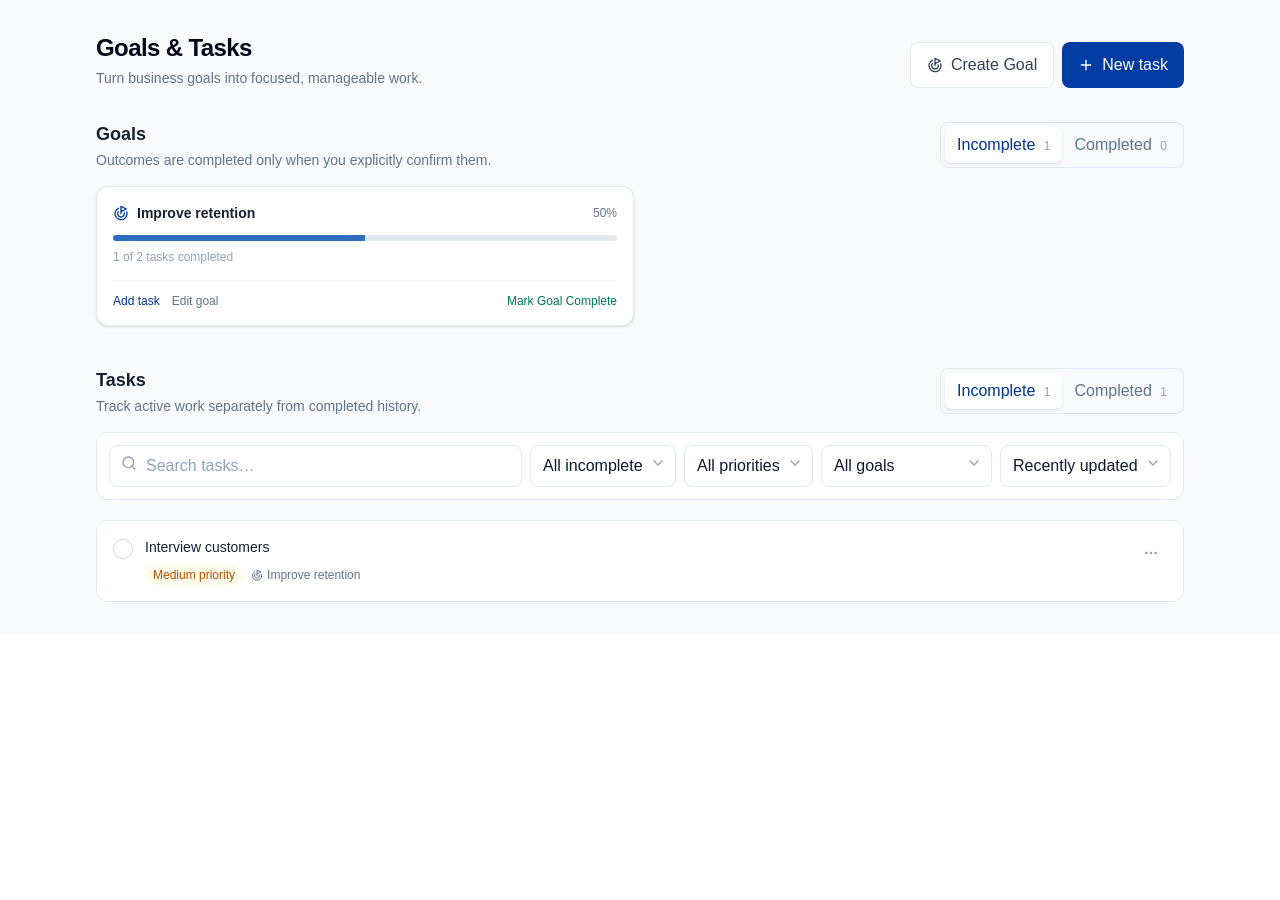
Test: persisted task and goal management › moves a goal and its remaining tasks to Completed after the bulk choice
Expected: the text "Interview customers" is shown, x1=145 y1=539 x2=270 y2=555
Click the button "Mark Goal Complete" at (562, 301), box x1=507 y1=293 x2=617 y2=309
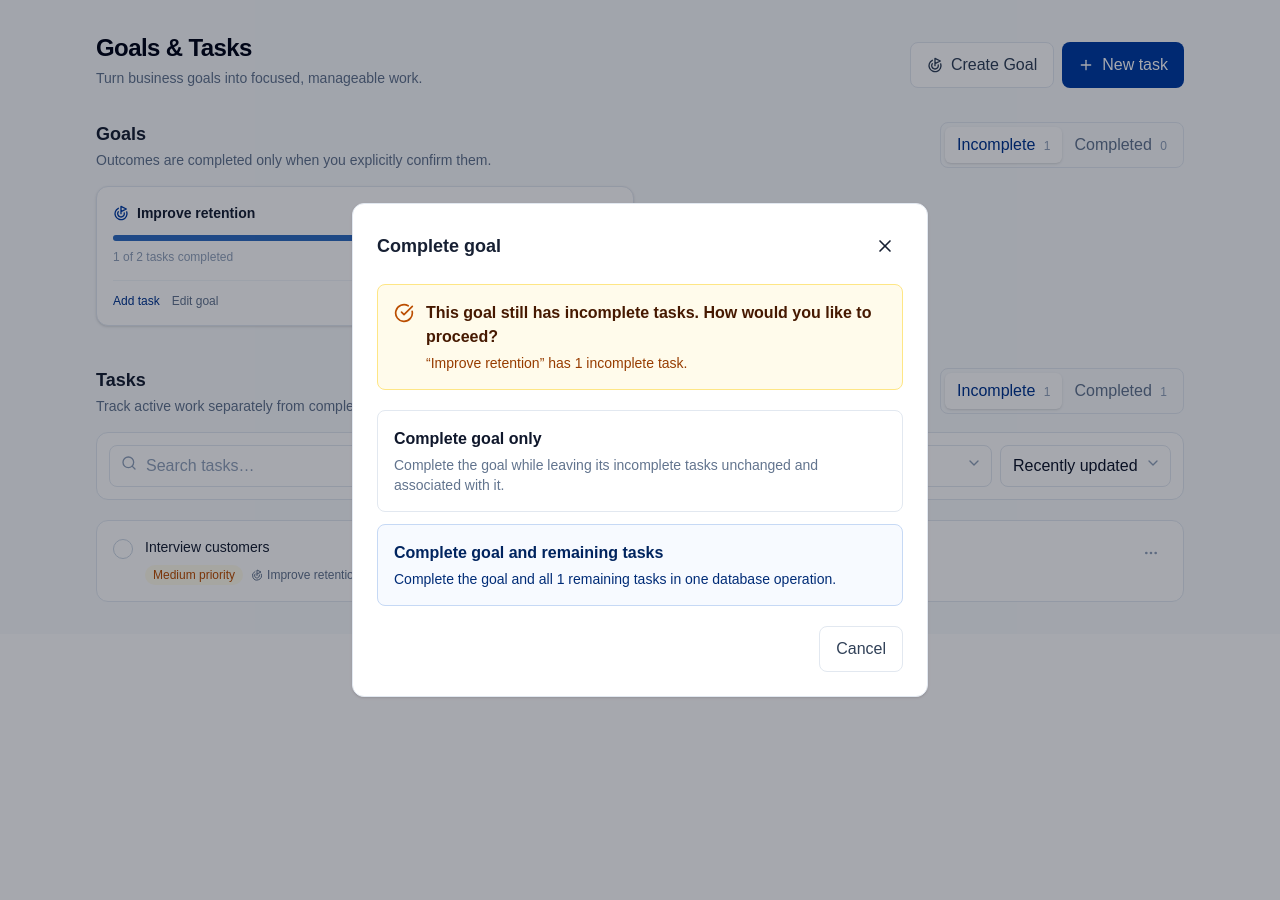
Click the button "Complete goal and remaining tasks" at (529, 552), box x1=377 y1=524 x2=903 y2=606
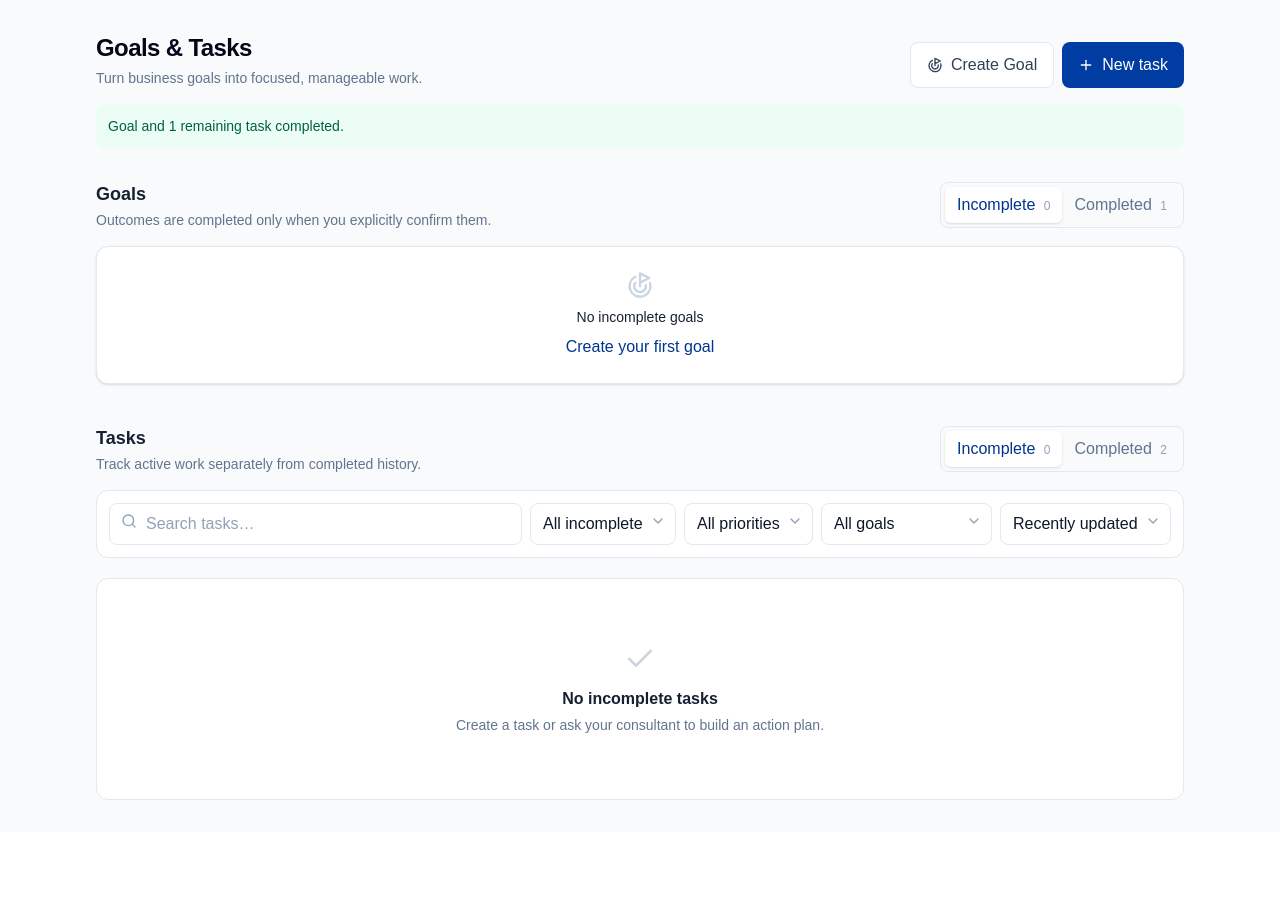
Expected: the text "Goal and 1 remaining task completed." is shown, x1=96 y1=104 x2=1184 y2=148
Expected: the button "Interview customers" is gone
Click the tab "Completed 2" at (1121, 449), box x1=1062 y1=431 x2=1179 y2=467
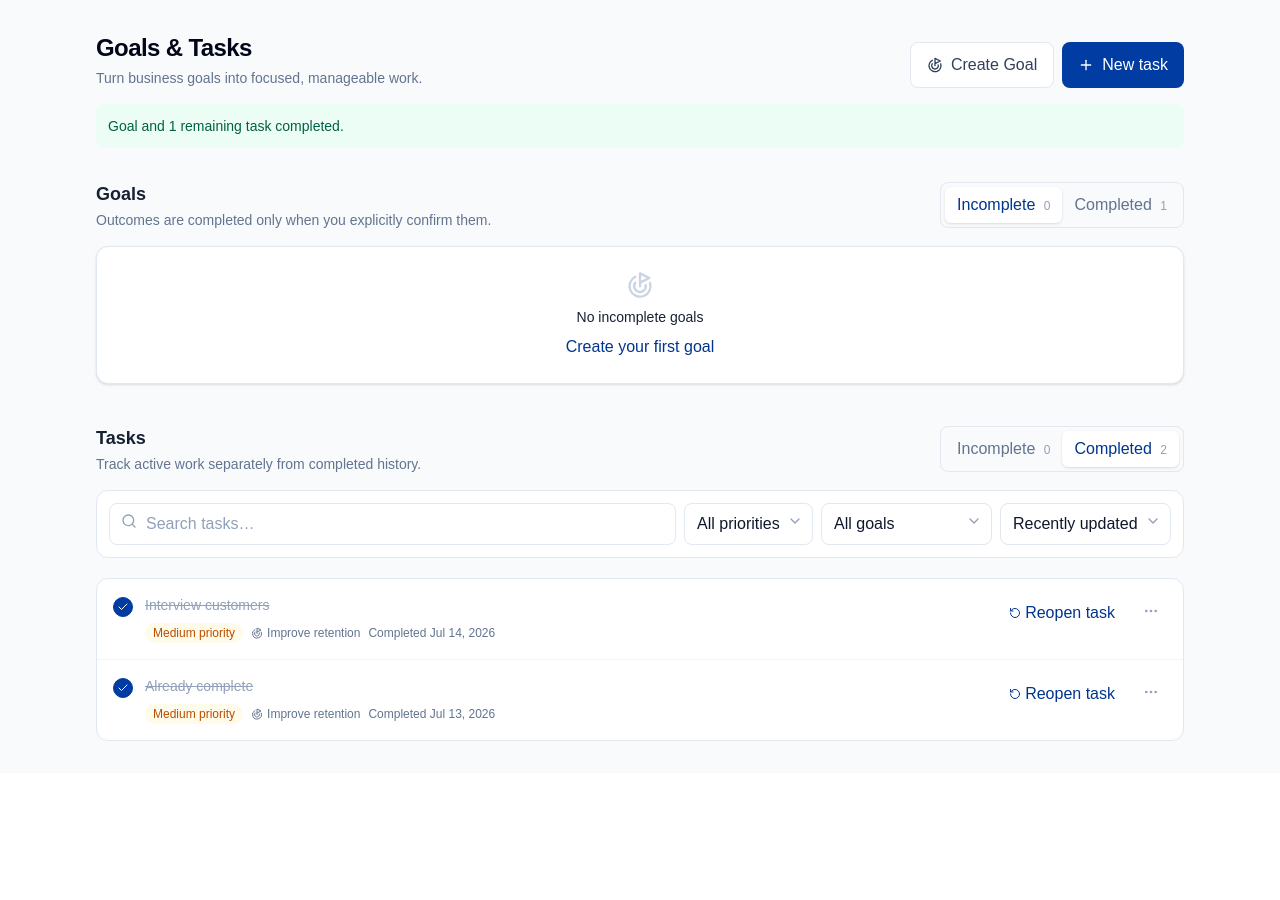
Expected: the text "Interview customers" is shown, x1=145 y1=597 x2=270 y2=613
Expected: the text "Already complete" is shown, x1=145 y1=678 x2=253 y2=694
